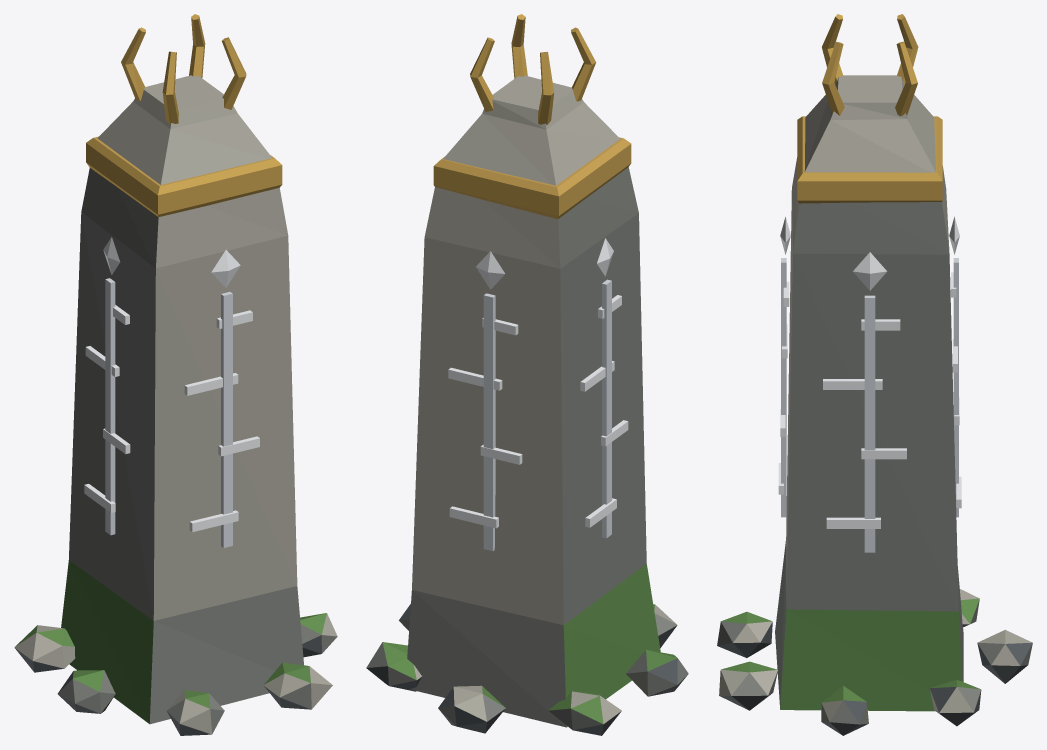
Rendered from Waystone.obj.
3 renders of one model, left to right at view 1: azimuth 30°, elevation 25°; view 2: azimuth 150°, elevation 25°; view 3: azimuth 270°, elevation 25°, orthographic.
Bounding box in the file's own units: 2.95 × 6.62 × 2.92.
